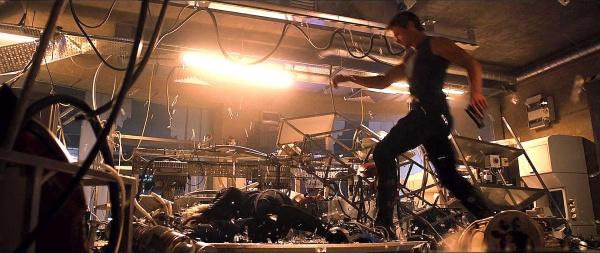Gun: (466, 104, 486, 129)
